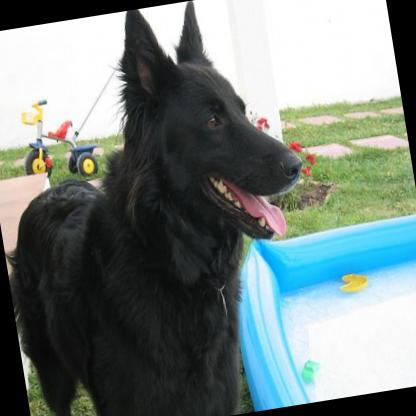groenendael: (0, 0, 338, 416)
